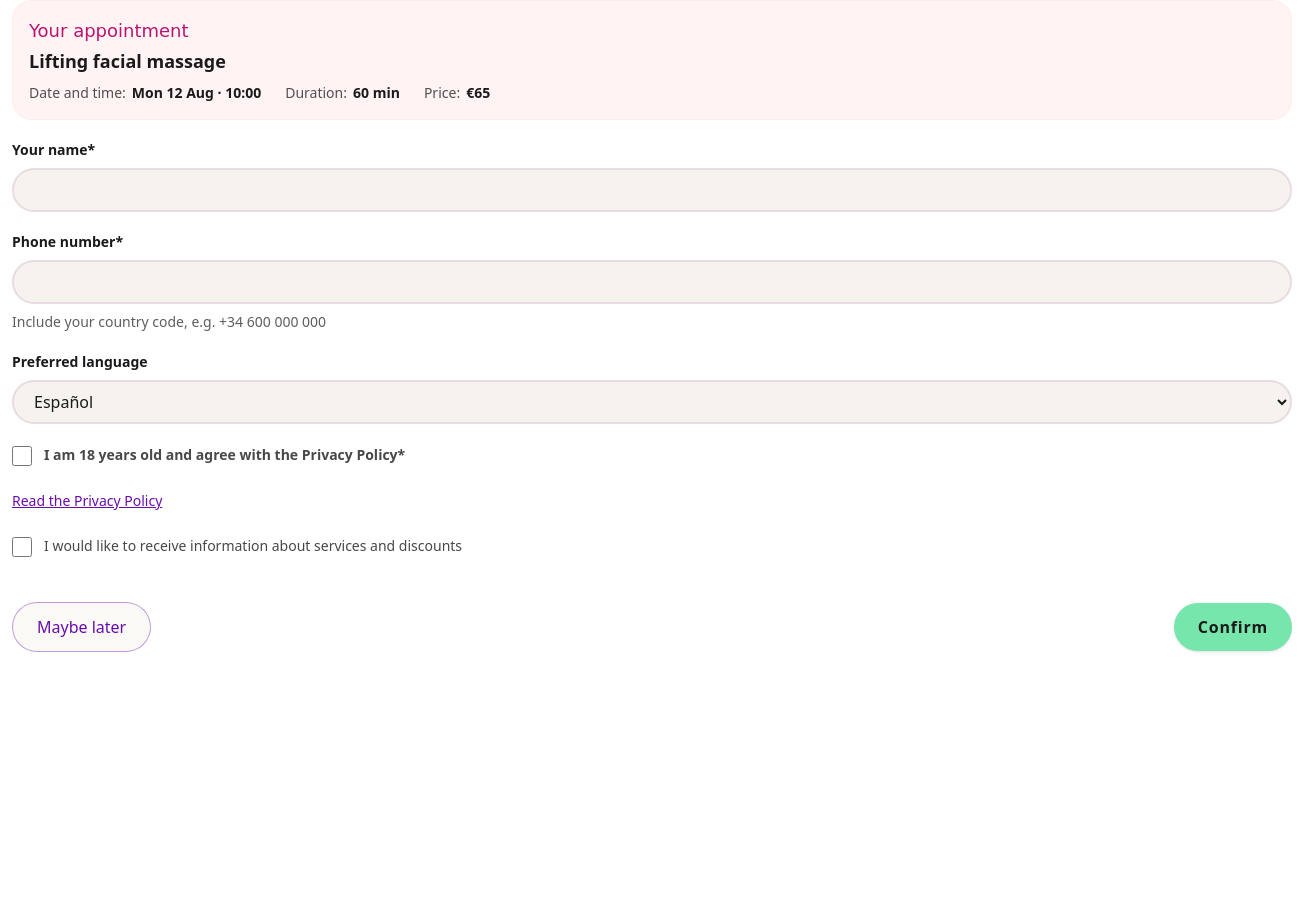
Test case: AppointmentForm › while the reservation is being sent › announces a send failure to assistive tech as an alert
Type "Marina" into the field labelled "Your name*" at (652, 190), box [12, 168, 1292, 212]
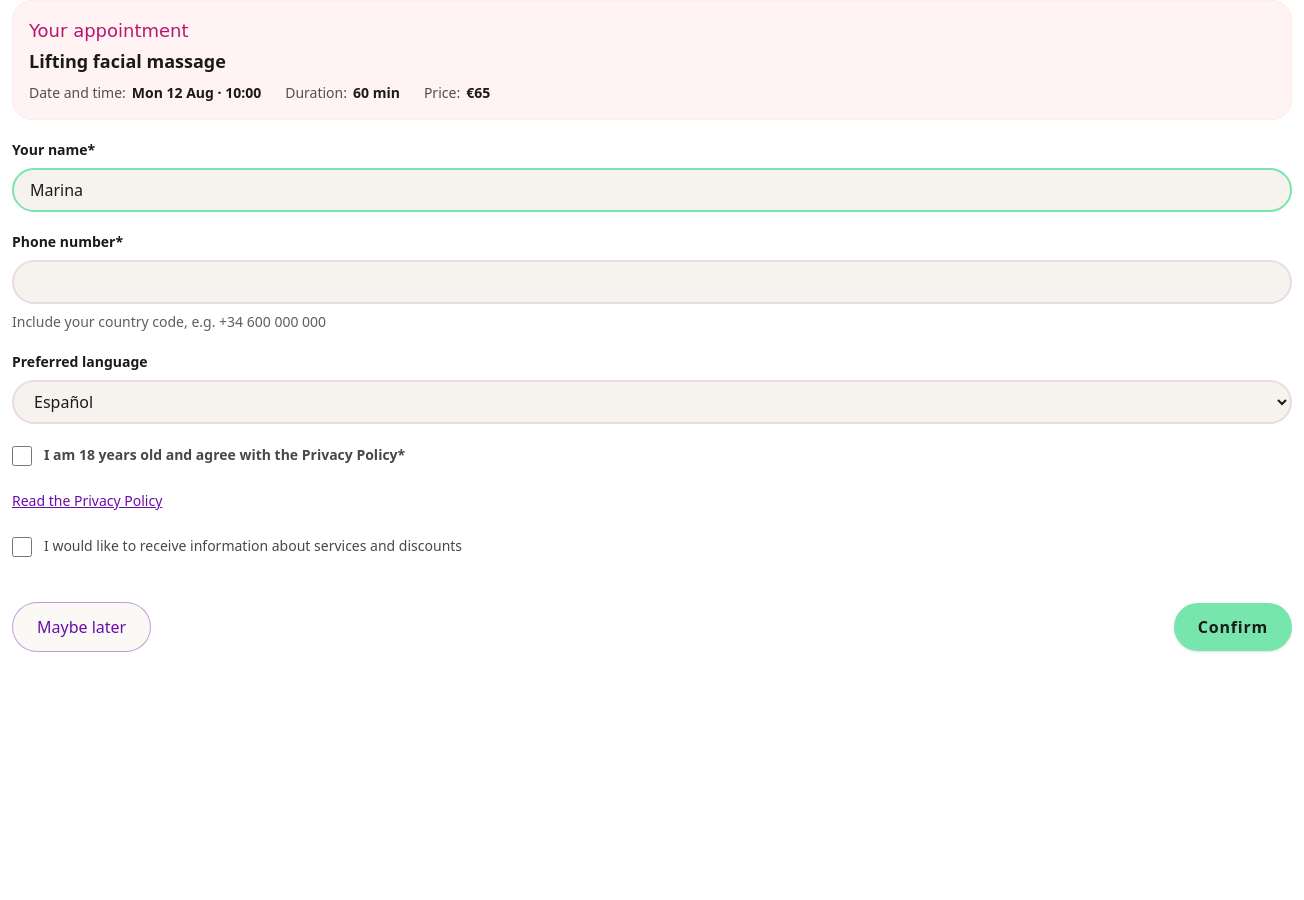
Type "+34600000000" into the field labelled "Phone number*" at (652, 282), box [12, 260, 1292, 304]
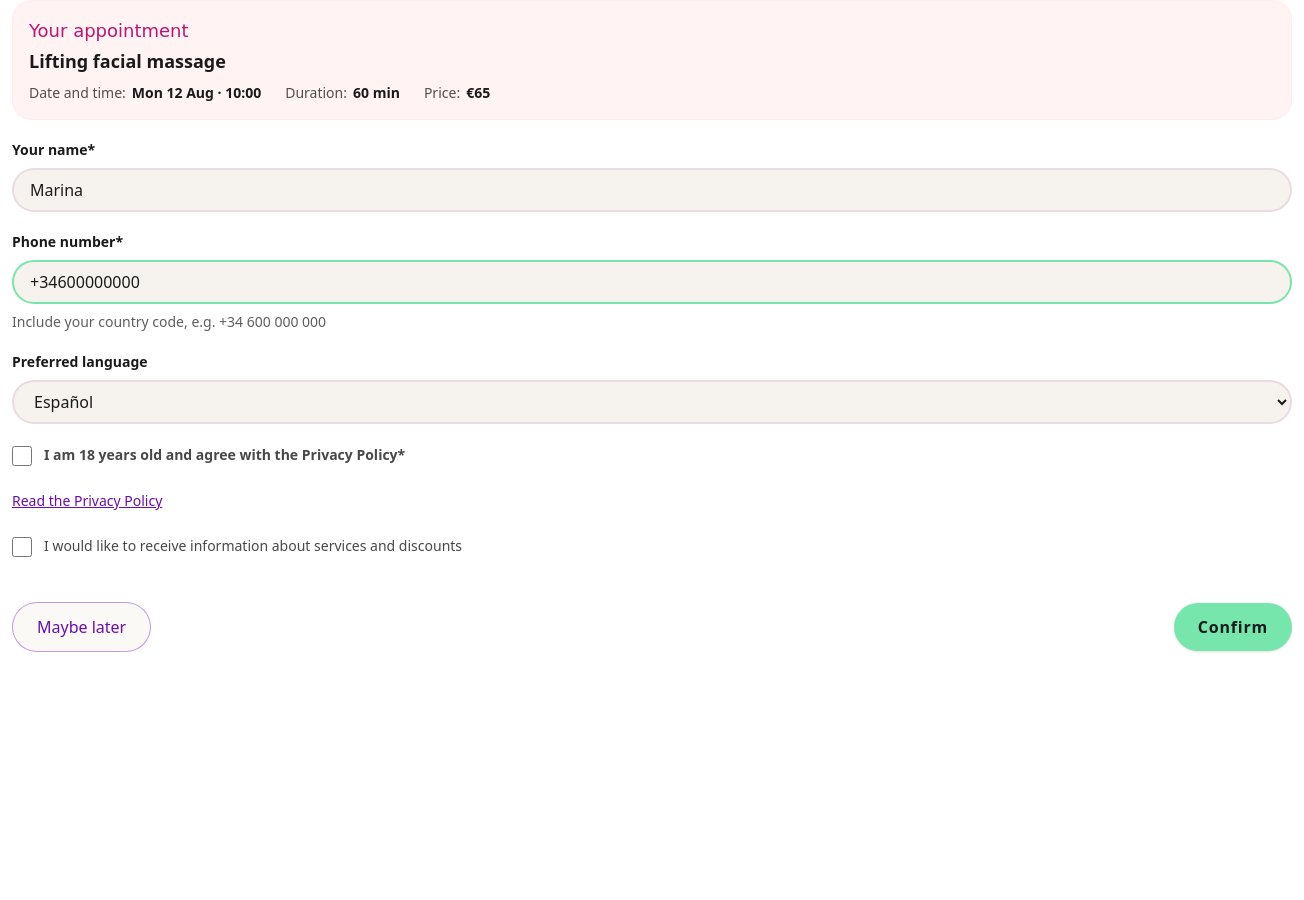
Click the checkbox labelled "I am 18 years old and agree with the Privacy Policy*" at (22, 456), box [12, 446, 32, 466]
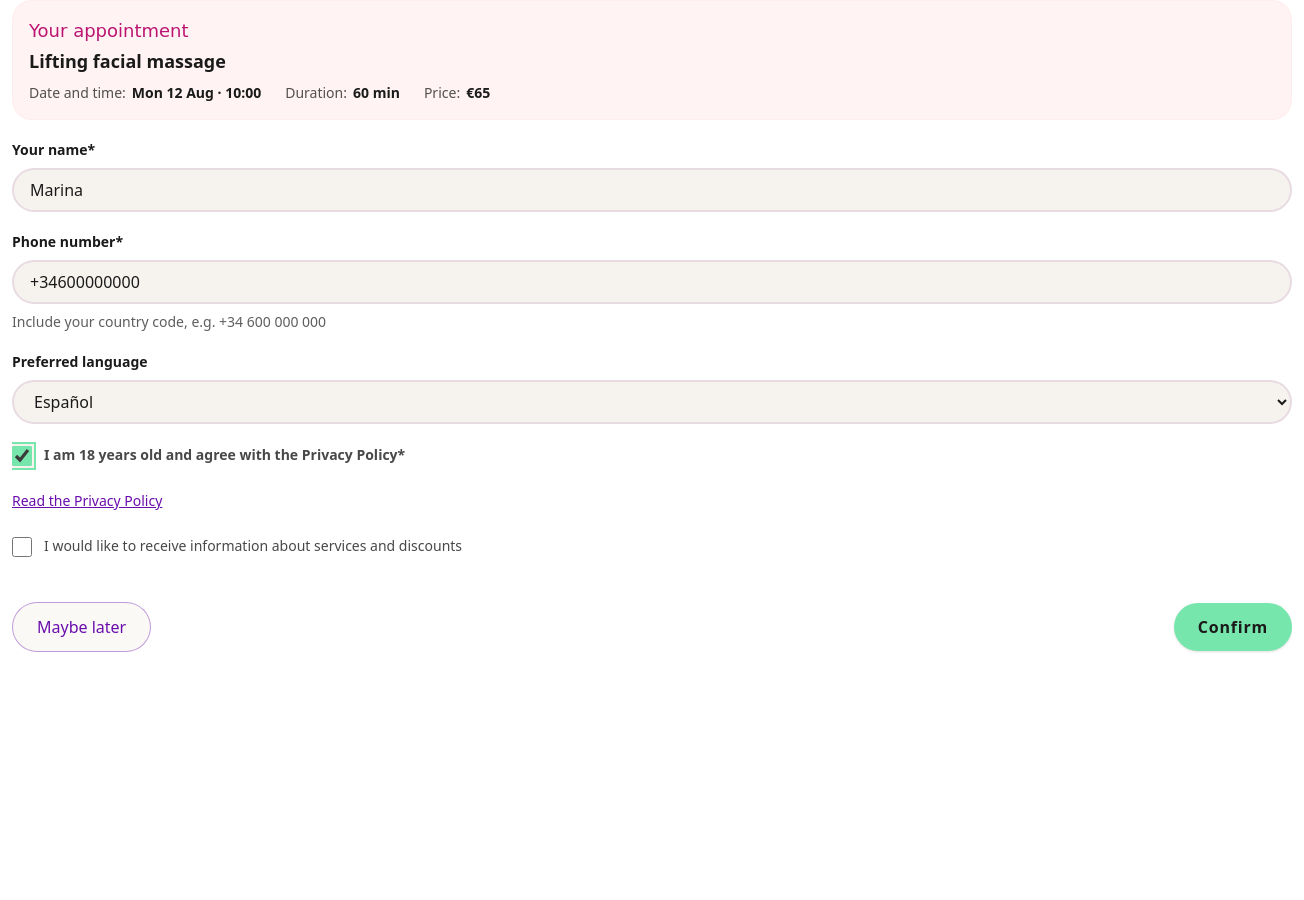
Click the button "Confirm" at (1233, 626), box [1174, 602, 1292, 650]
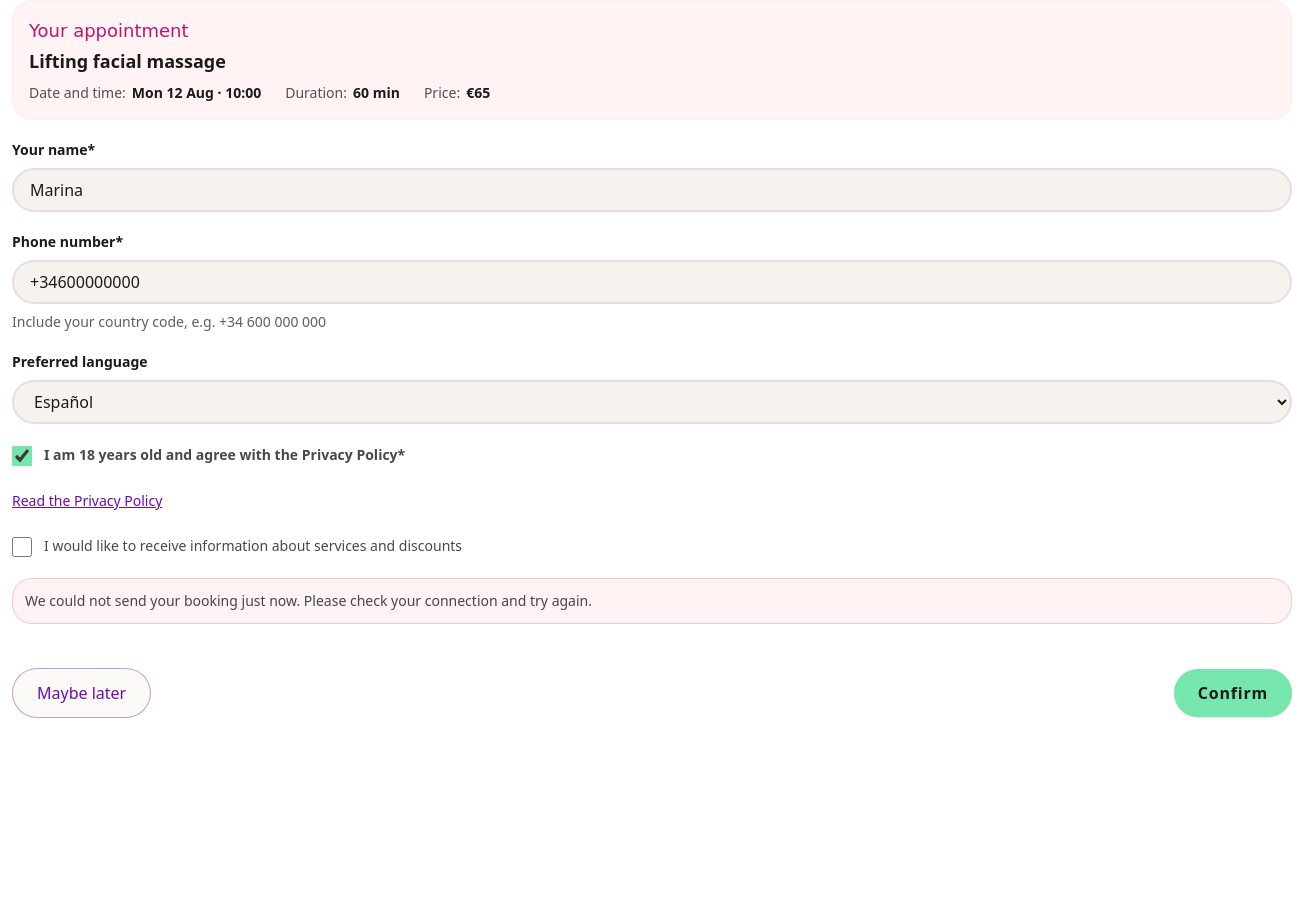
Result: the message is shown at [12, 578, 1292, 624]
